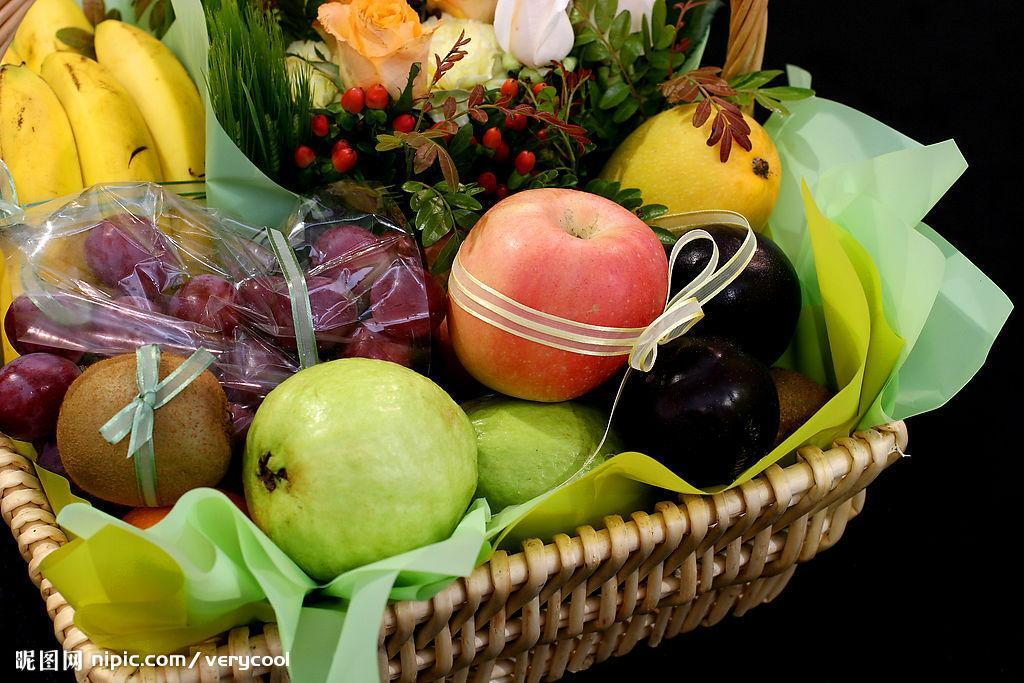apple: (447, 187, 669, 404)
